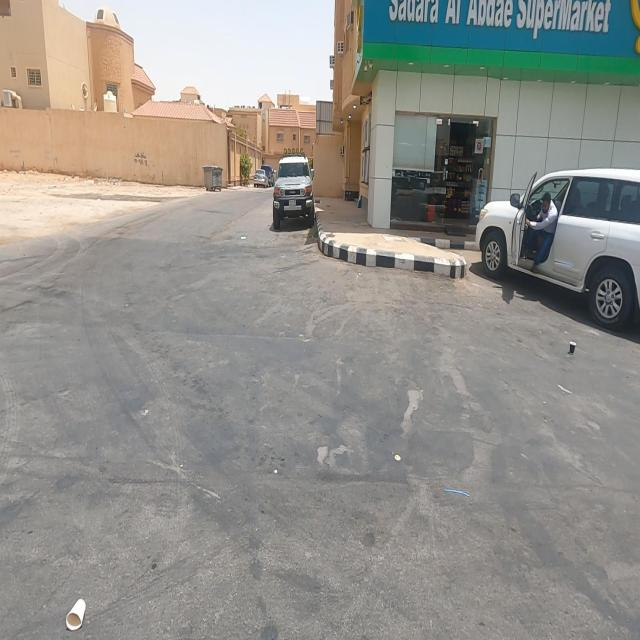Graffiti: (135, 153, 148, 168)
